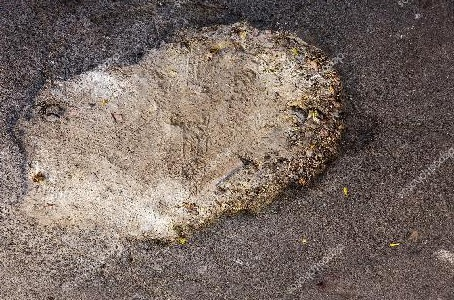pothole: (0, 17, 380, 258)
